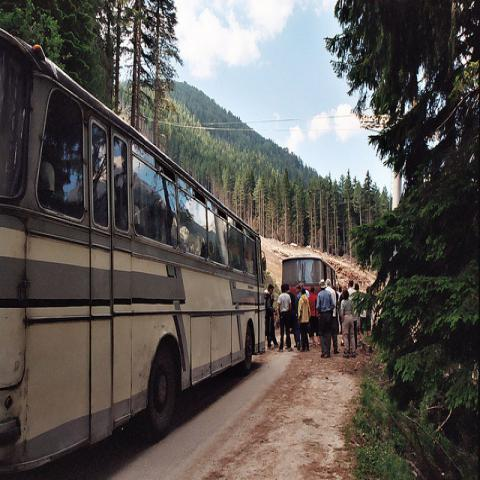bus: (0, 28, 267, 475), (281, 256, 336, 297)
